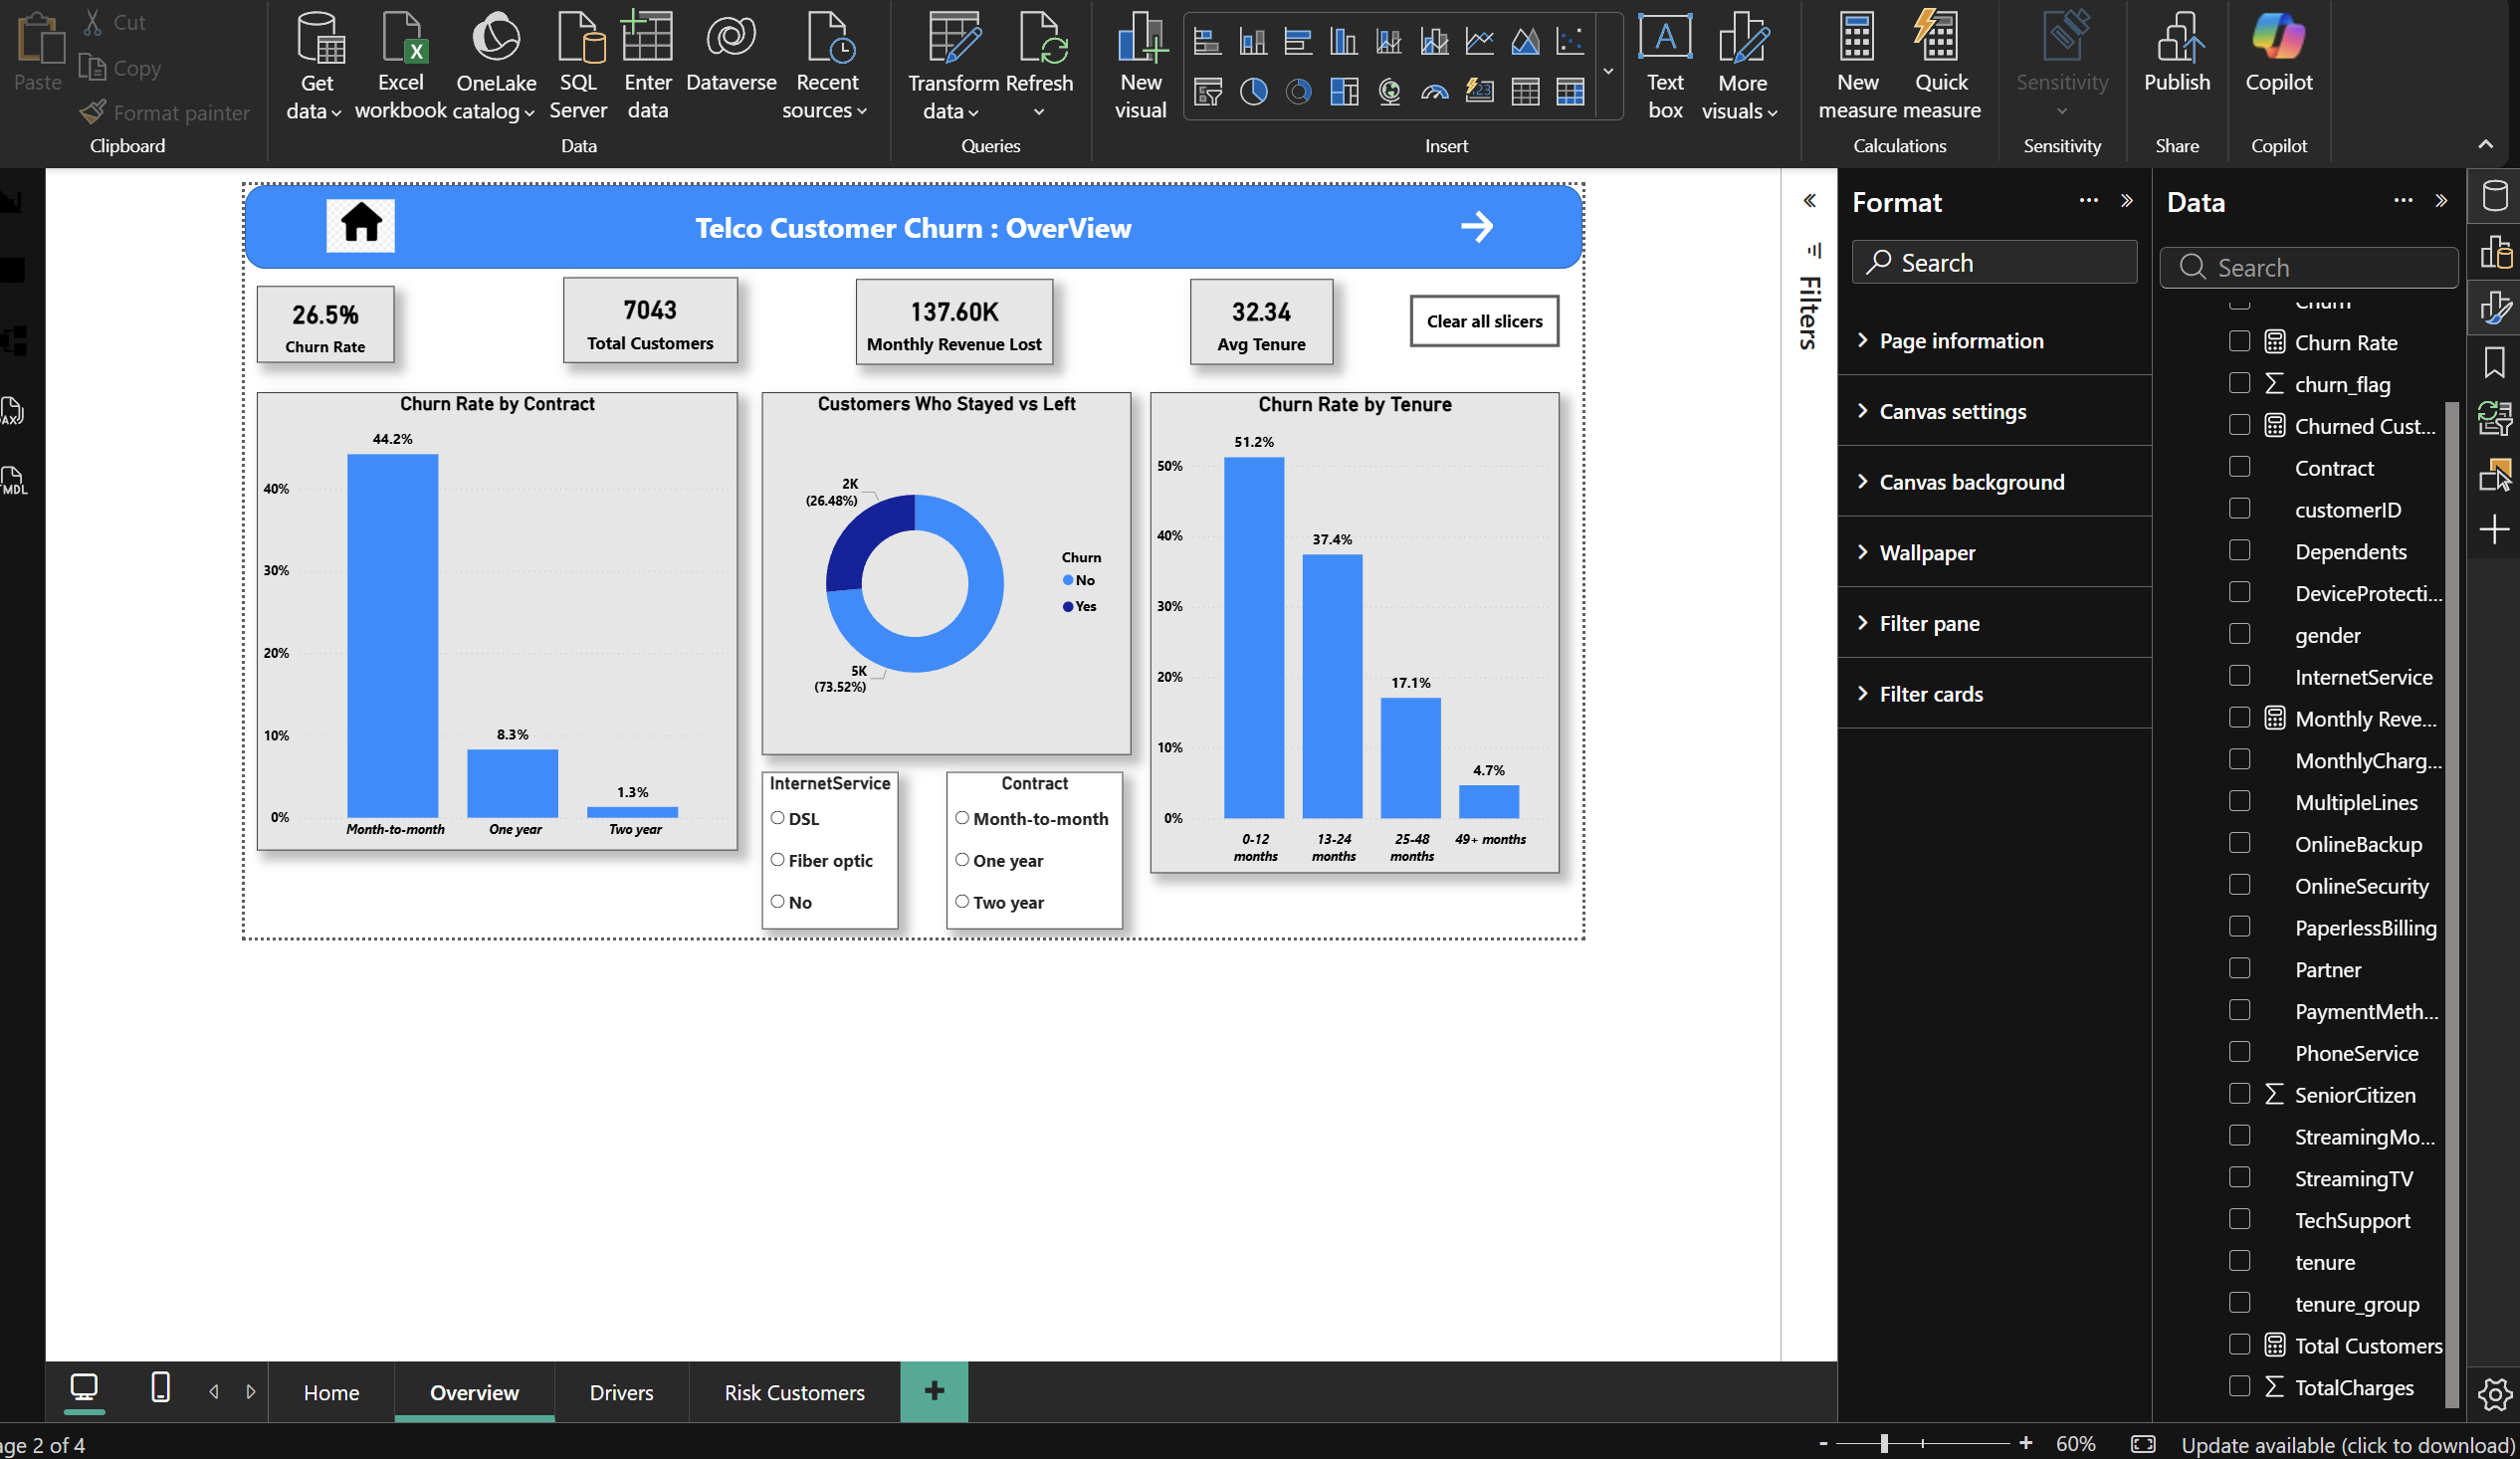

The page's visual inventory and layout, read from the dashboard file:
{"tool":"powerbi","page":{"name":"Overview","canvas":[1280,720],"ordinal":1},"visuals":[{"type":"card","fields":{"Values":["customers_clean.Avg Tenure"]},"box":[905,90,136.7,81.7],"z":0},{"type":"card","fields":{"Values":["customers_clean.Monthly Revenue Lost"]},"box":[585,90,188.3,81.7],"z":1000},{"type":"card","fields":{"Values":["customers_clean.Total Customers"]},"box":[305,88.3,166.7,81.7],"z":2000},{"type":"card","fields":{"Values":["customers_clean.Churn Rate"]},"box":[11.7,96.7,131.7,73.3],"z":3000},{"type":"donutChart","title":"Customers Who Stayed vs Left","fields":{"Category":["customers_clean.Churn"],"Y":["customers_clean.Total Customers"]},"box":[495,198.3,353.3,346.7],"z":4000},{"type":"clusteredColumnChart","fields":{"Category":["customers_clean.Contract"],"Y":["customers_clean.Churn Rate"]},"box":[11.7,198.3,460,438.3],"z":5000},{"type":"clusteredColumnChart","title":"Churn Rate by Tenure","fields":{"Category":["customers_clean.tenure_group"],"Y":["customers_clean.Churn Rate"]},"box":[866.7,198.3,391.7,460],"z":6000},{"type":"shape","box":[0,0,1280,80],"z":7000},{"type":"listSlicer","fields":{"Values":["customers_clean.InternetService"]},"box":[495,561.7,130,150],"z":8000},{"type":"listSlicer","fields":{"Values":["customers_clean.Contract"]},"box":[671.7,561.7,168.3,150],"z":9000},{"type":"actionButton","box":[1115,105,143.3,50],"z":10000},{"type":"actionButton","box":[1158.3,20,100,40],"z":11000},{"type":"image","box":[78.3,3.3,65,71.7],"z":11001}]}

Visuals, with their boxes on the page's 1280x720 design canvas (x1, y1, x2, y2). These are canvas units, not pixel positions in the 2520x1459 screenshot, which may show the page scaled, cropped or inside an application window:
card - customers_clean.Avg Tenure: locate(905, 90, 1042, 172)
card - customers_clean.Monthly Revenue Lost: locate(585, 90, 773, 172)
card - customers_clean.Total Customers: locate(305, 88, 472, 170)
card - customers_clean.Churn Rate: locate(12, 97, 143, 170)
"Customers Who Stayed vs Left" donutChart: locate(495, 198, 848, 545)
clusteredColumnChart - customers_clean.Contract x customers_clean.Churn Rate: locate(12, 198, 472, 637)
"Churn Rate by Tenure" clusteredColumnChart: locate(867, 198, 1258, 658)
shape: locate(0, 0, 1280, 80)
listSlicer - customers_clean.InternetService: locate(495, 562, 625, 712)
listSlicer - customers_clean.Contract: locate(672, 562, 840, 712)
actionButton: locate(1115, 105, 1258, 155)
actionButton: locate(1158, 20, 1258, 60)
image: locate(78, 3, 143, 75)
